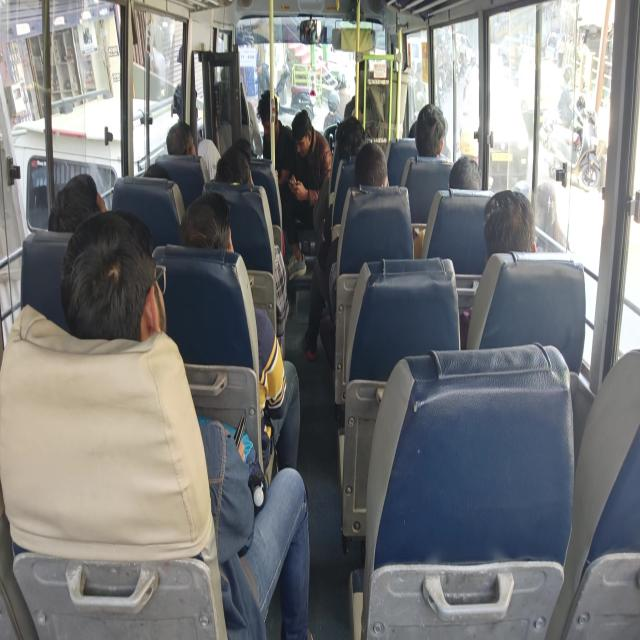person: (60, 209, 312, 638), (179, 191, 301, 471), (301, 141, 389, 362), (214, 143, 290, 359), (459, 189, 537, 348), (278, 109, 332, 279), (256, 90, 306, 266), (412, 154, 482, 257), (482, 189, 536, 262), (256, 89, 294, 184), (47, 172, 107, 232), (166, 120, 220, 182), (533, 181, 569, 251), (415, 103, 449, 158), (215, 144, 254, 187), (354, 141, 389, 188), (448, 154, 482, 190), (166, 120, 196, 156)
